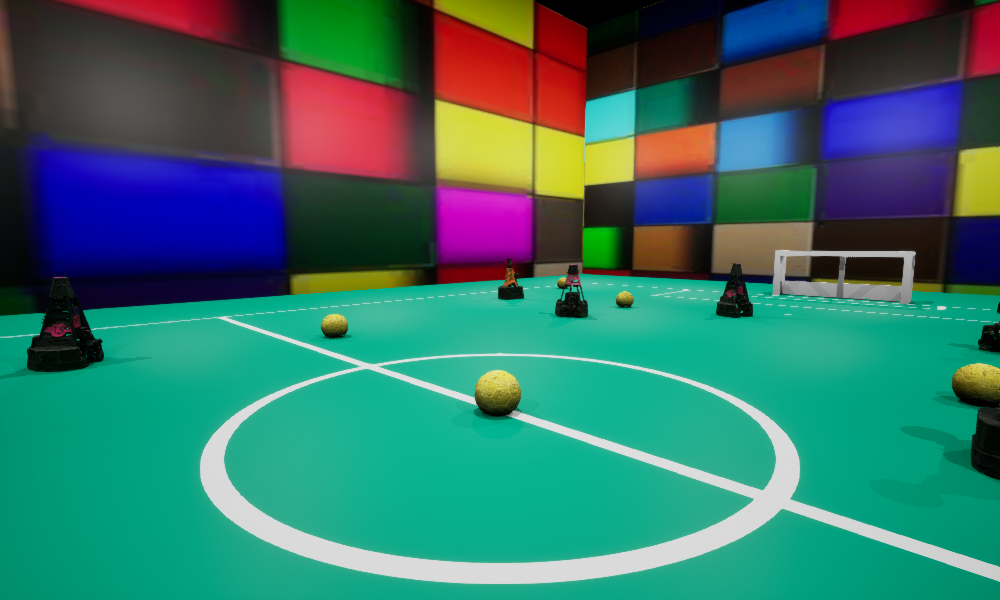b: (474, 370, 520, 415), (952, 363, 999, 406), (321, 314, 347, 337), (616, 291, 633, 307), (557, 277, 568, 287)
o: (971, 407, 999, 479), (978, 302, 999, 351), (498, 259, 523, 299)
p1: (27, 277, 103, 371), (716, 263, 752, 317)
p2: (555, 264, 587, 317)
